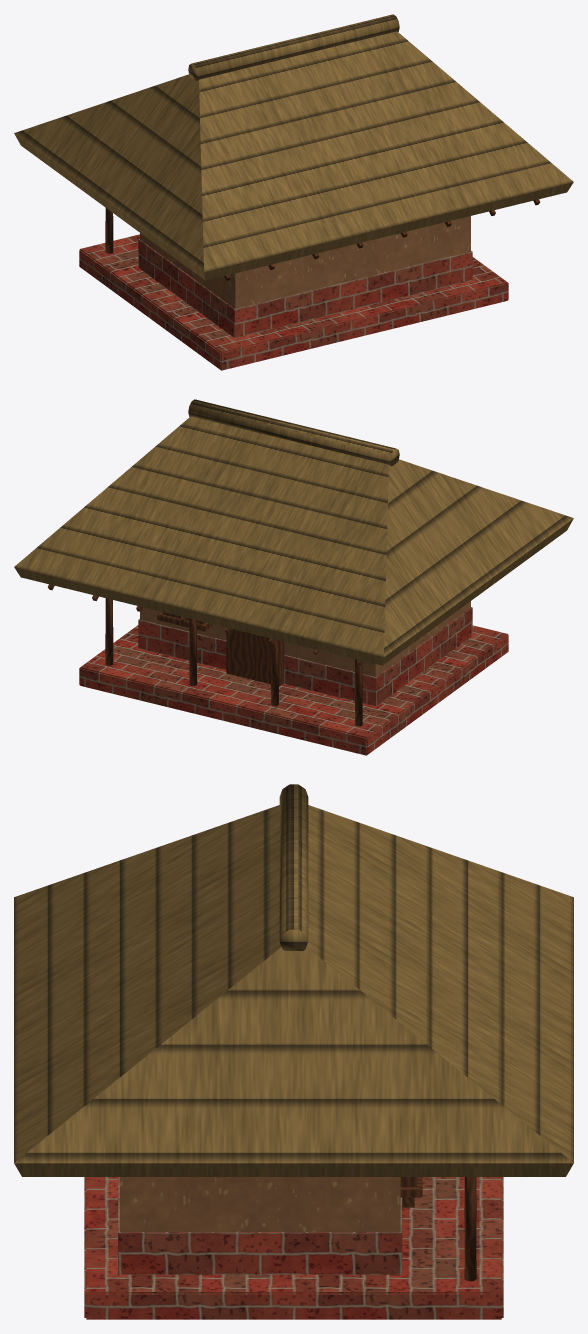
Rendered from laborer_kudil.glb.
3 views of the same model, one above another, from view 1: azimuth 30°, elevation 25°; view 2: azimuth 150°, elevation 25°; view 3: azimuth 270°, elevation 25° (orthographic). The views are drawn at different scales.
Visible parts, largest first — view 1: laborer_kudil; view 2: laborer_kudil; view 3: laborer_kudil.
Part boxes in pixels (bbox=[...]): laborer_kudil: bbox=[14, 14, 573, 370]; laborer_kudil: bbox=[14, 399, 573, 755]; laborer_kudil: bbox=[14, 784, 573, 1319].
Size of the model in its own units: 7.06 by 4.45 by 6.28.
6 materials, 6 textured.
